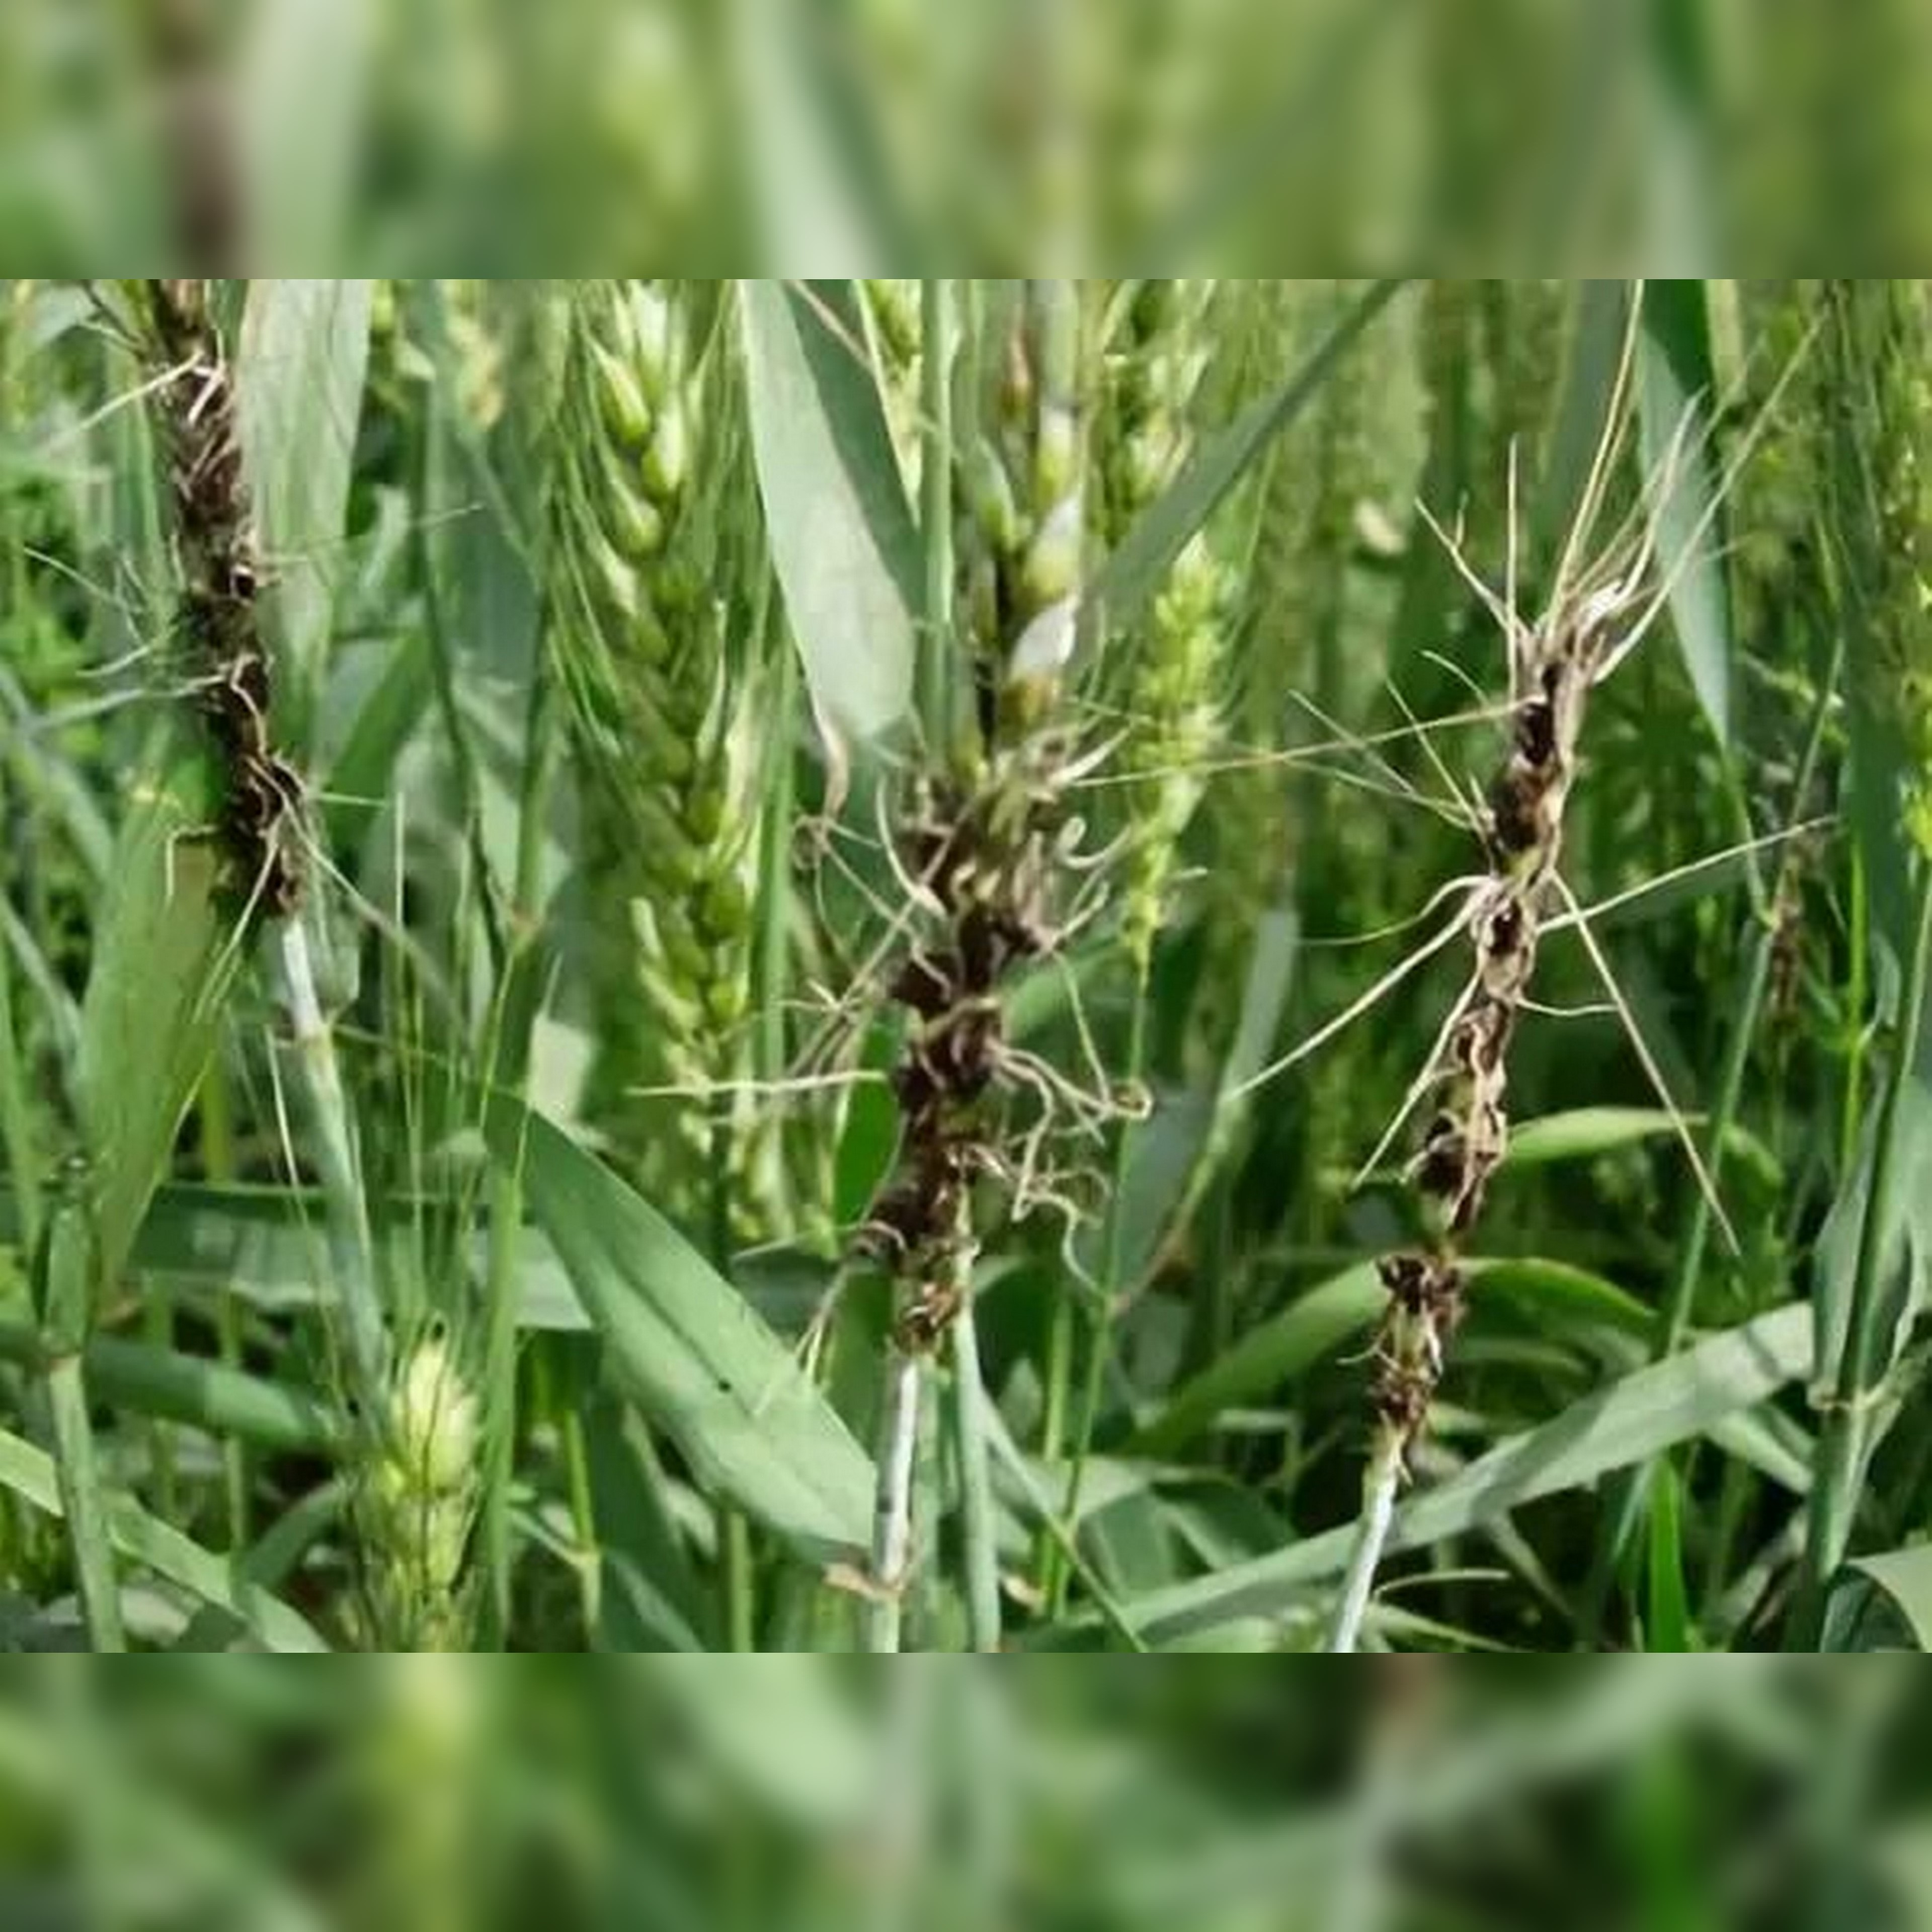Wheat Loose Smut: (1345, 619, 1637, 1414), (847, 789, 1083, 1330), (133, 318, 317, 892)
